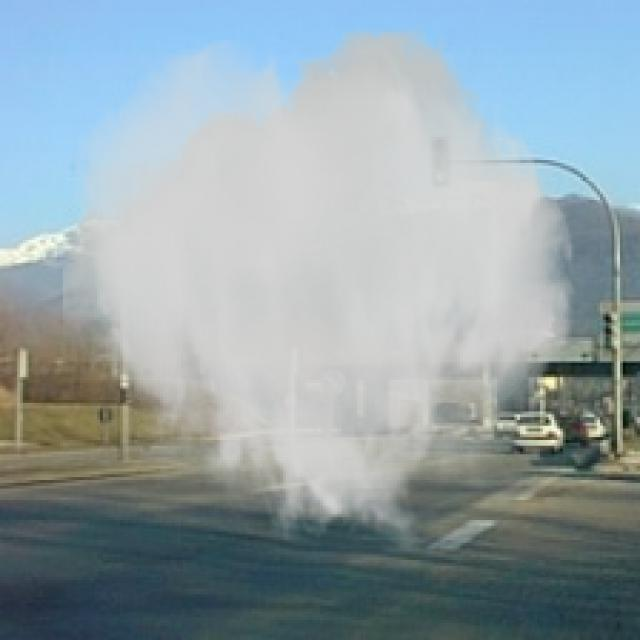smoke: (63, 29, 580, 554)
